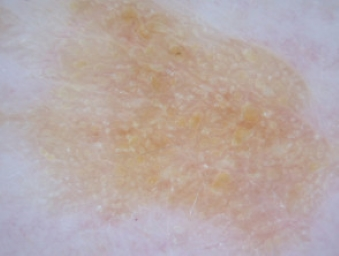seborrheic keratosis: (33, 4, 328, 243)
